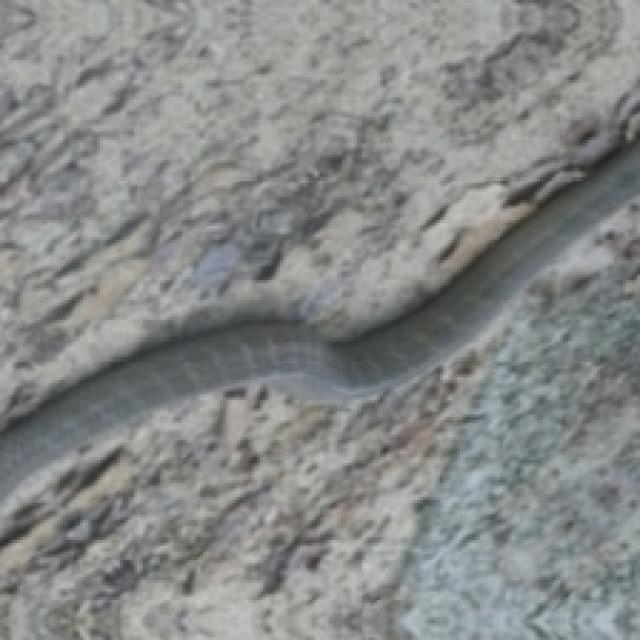king cobra: (0, 0, 637, 426), (3, 363, 474, 637)
